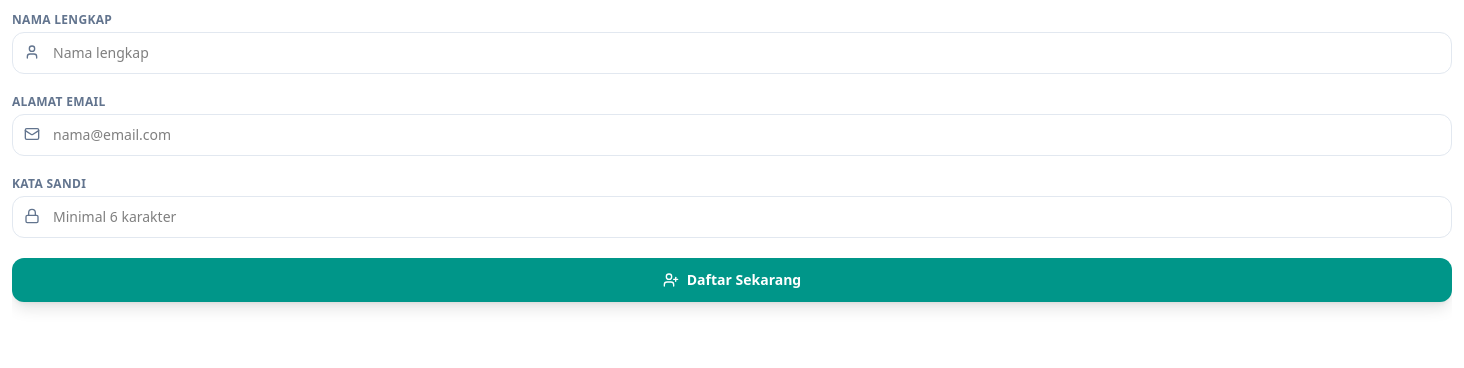
Scenario: RegisterPage › should show error when password is too short
Type "Delcom" into the field with id "name". click: (732,53)
box: [12,32,1452,74]
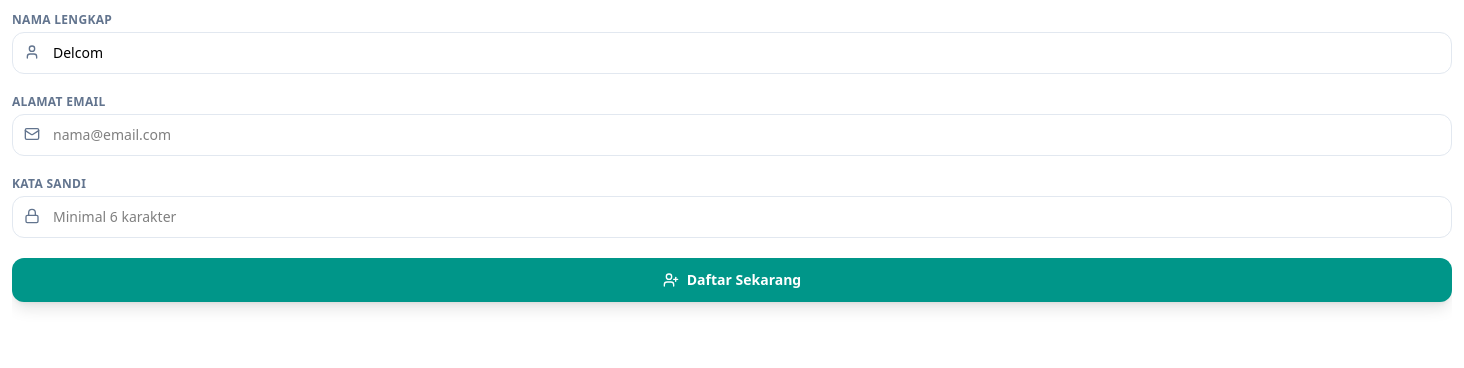
Type "a@b.c" into the field with id "email". click: (732,135)
box: [12,114,1452,156]
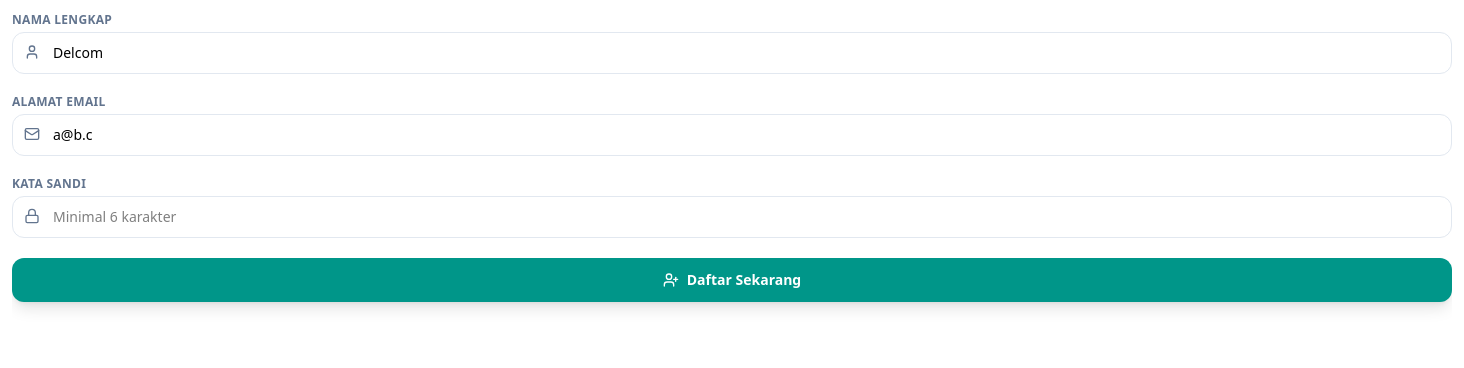
Type "123" into the password field labelled "Kata Sandi". click: (732,217)
box: [12,196,1452,238]
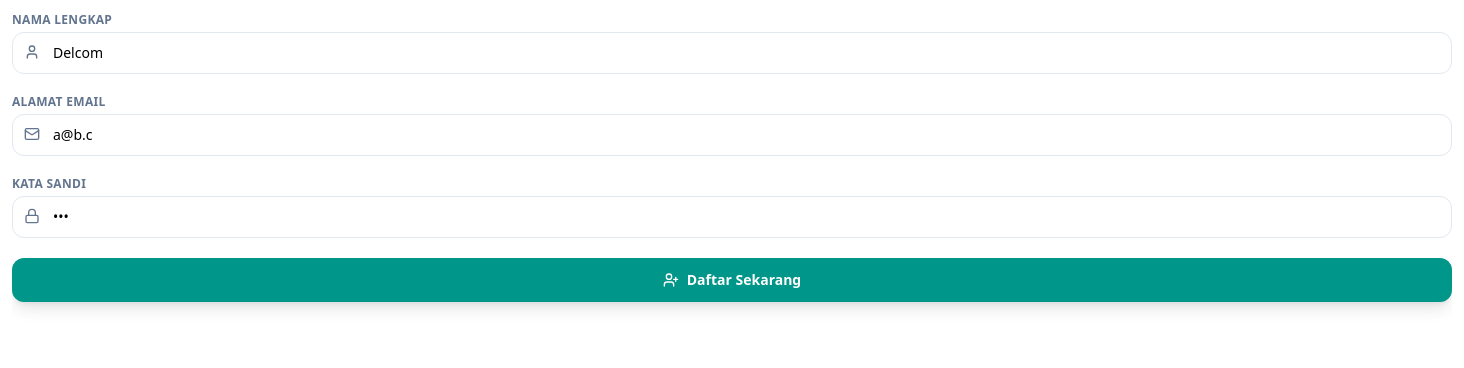
Submit the form
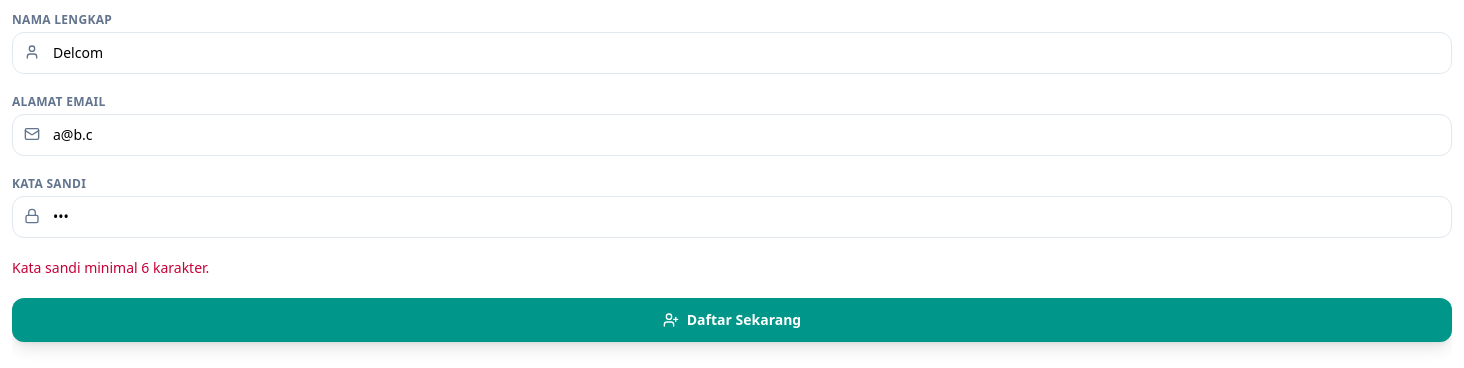
Check: the text with test id "register-error" shows "minimal 6", box [12,258,209,277]
